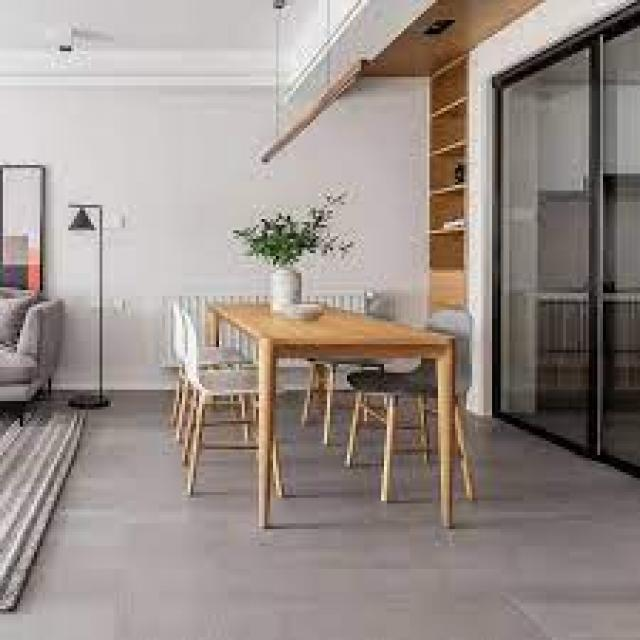Table: (196, 288, 478, 553)
